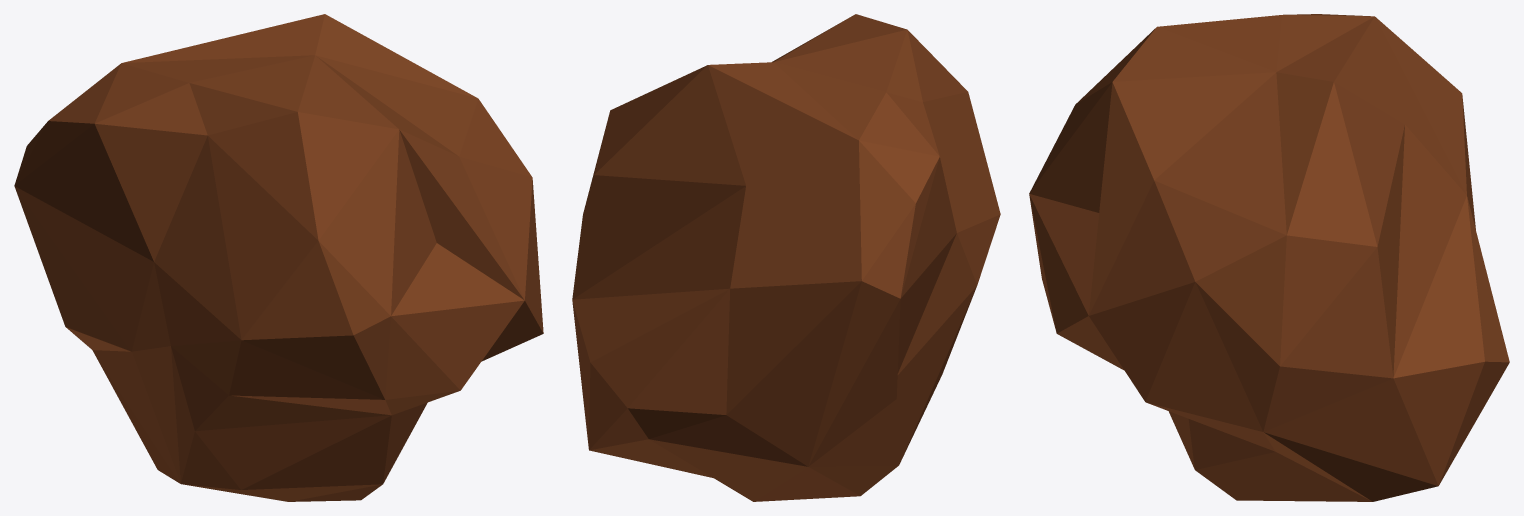
Rendered from Asteroide10.fbx.
3 views of the same model, side by side, from view 1: azimuth 30°, elevation 25°; view 2: azimuth 150°, elevation 25°; view 3: azimuth 270°, elevation 25° (orthographic). The views are drawn at different scales.
Visible parts, largest first — view 1: Asteroide10; view 2: Asteroide10; view 3: Asteroide10.
Part boxes in pixels (<box>): Asteroide10: <box>14,14,543,501</box>; Asteroide10: <box>572,14,1000,501</box>; Asteroide10: <box>1029,14,1509,501</box>.
Size of the model in its own units: 0.9123 by 0.9525 by 0.9481.
